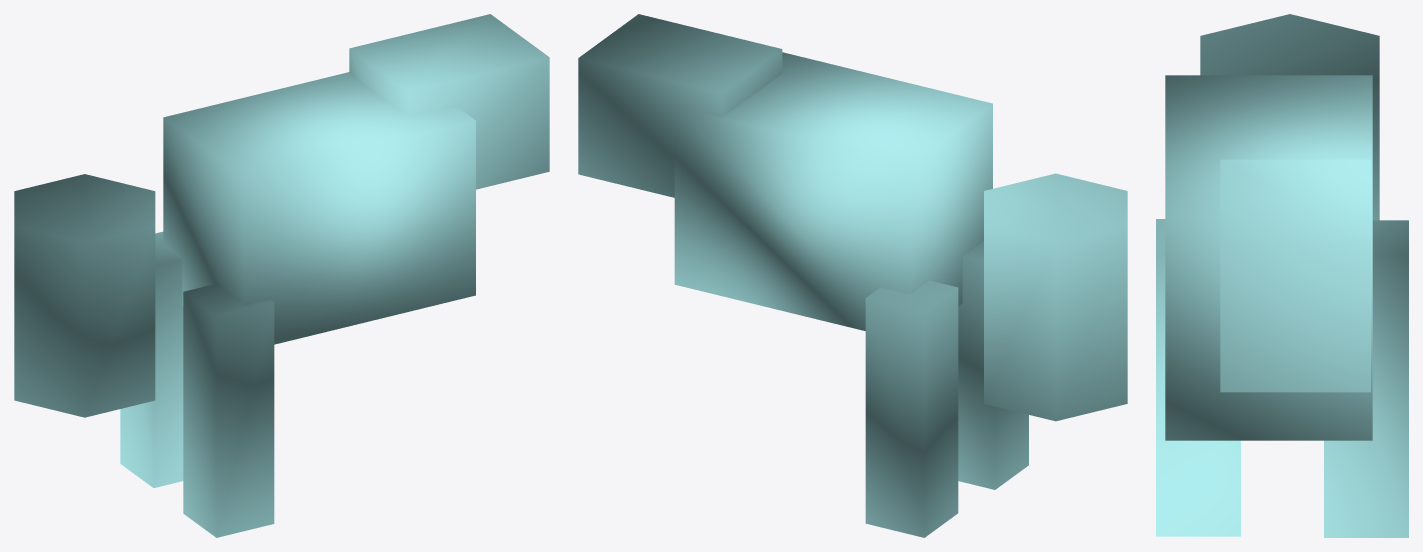
The model's file is ps2_jrpg_wasteland_bandit_raider_enemy.obj.
The picture shows the model from 3 angles, left to right: view 1: azimuth 30°, elevation 25°; view 2: azimuth 150°, elevation 25°; view 3: azimuth 270°, elevation 25°; orthographic projection. The views are drawn at different scales.
Size of the model in its own units: 1.58 by 1.11 by 0.5368.
